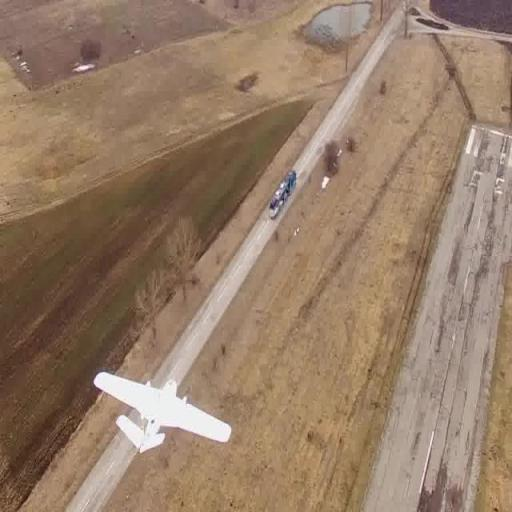uav: (78, 360, 236, 466)
